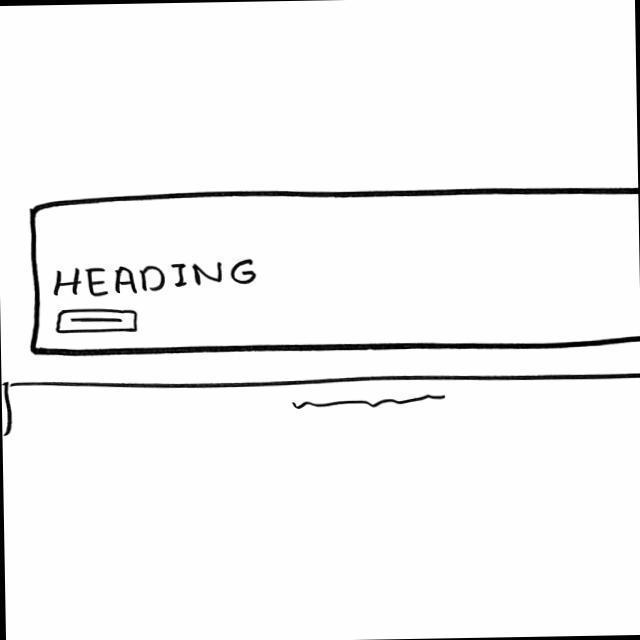container: (24, 186, 640, 357)
icon-button: (53, 307, 140, 337)
label: (50, 260, 262, 298)
text: (290, 394, 447, 411)
